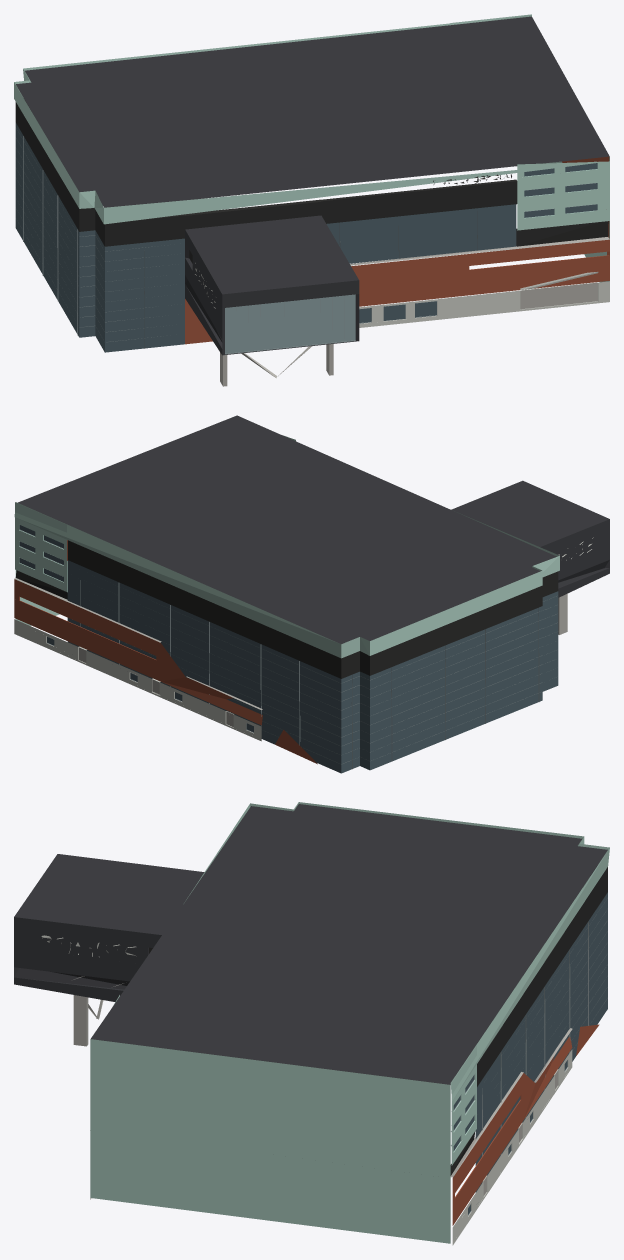
Rendered from muziekgebouw-bimhuis.lod1.glb.
The picture shows the model from 3 angles, top to bottom: view 1: azimuth 30°, elevation 25°; view 2: azimuth 150°, elevation 25°; view 3: azimuth 270°, elevation 25°; orthographic projection. The views are drawn at different scales.
Visible parts, largest first — view 1: muziekgebouw-bimhuis; view 2: muziekgebouw-bimhuis; view 3: muziekgebouw-bimhuis.
Boxes of the visible parts, x1,y1,x2,y2 form: muziekgebouw-bimhuis: [14, 14, 609, 386]; muziekgebouw-bimhuis: [14, 415, 609, 773]; muziekgebouw-bimhuis: [14, 802, 609, 1245].
Size of the model in its own units: 94.91 by 25.6 by 84.98.
